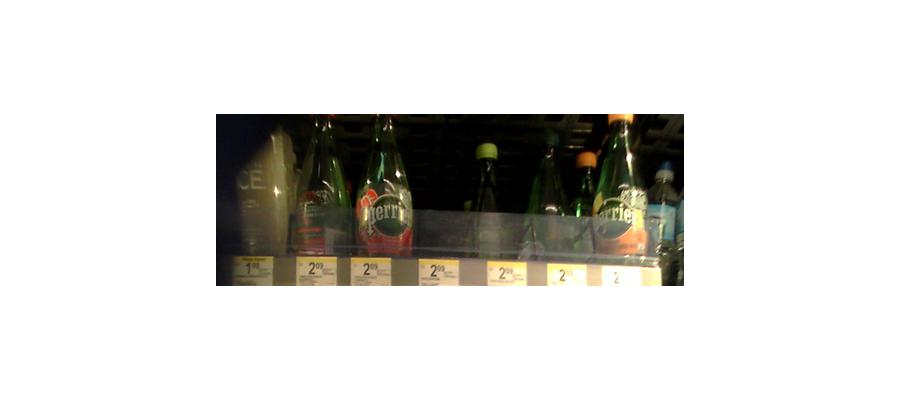bottle: (594, 107, 648, 262), (294, 112, 350, 256), (356, 112, 410, 257), (517, 134, 578, 261), (234, 120, 289, 259), (465, 134, 511, 261)
